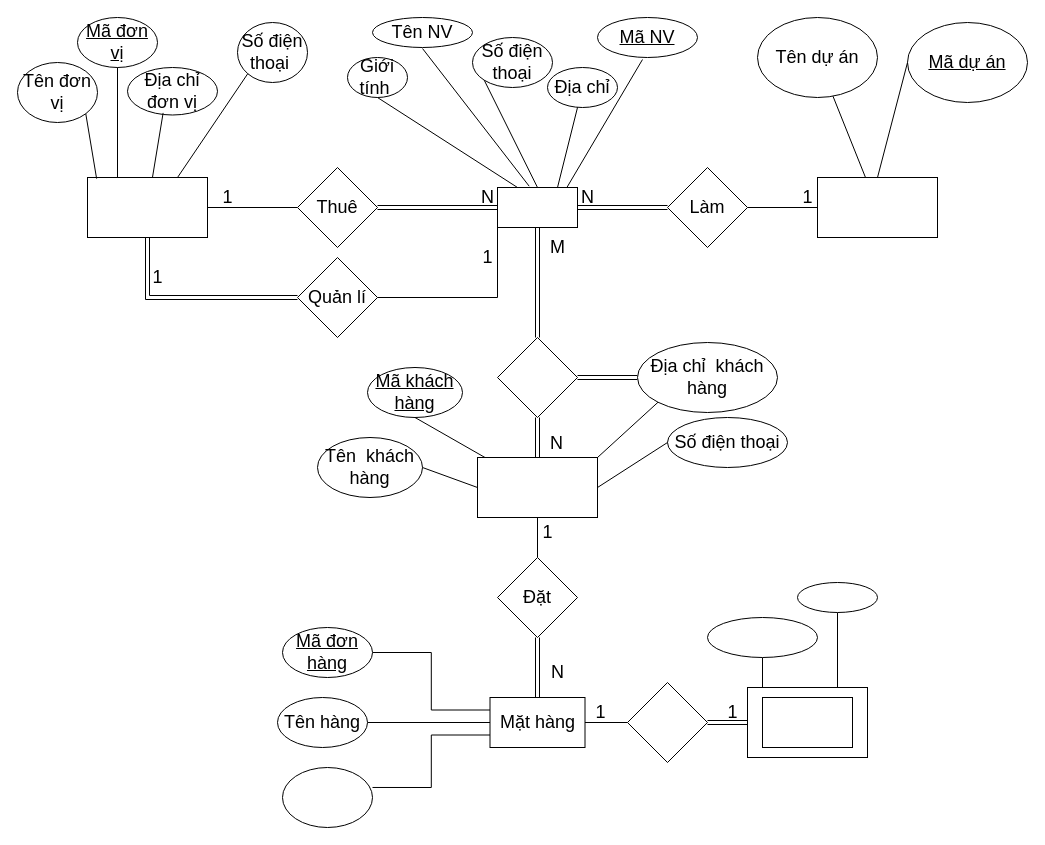
This 1045x845 diagram has some shape labels left out. Each missing label, with the centre of its shape:
"Có" belongs at [667,722].
"Dự án" belongs at [877,207].
"Khách hàng" belongs at [537,487].
"Lượng đặt hàng" belongs at [762,637].
"Ngày đặt" belongs at [837,597].
"Nhân viên" belongs at [537,207].
"Phục vụ" belongs at [537,377].
"Số lượng trong kho" belongs at [327,797].
"Đơn hàng" belongs at [807,722].
"Đơn vị" belongs at [147,207].
